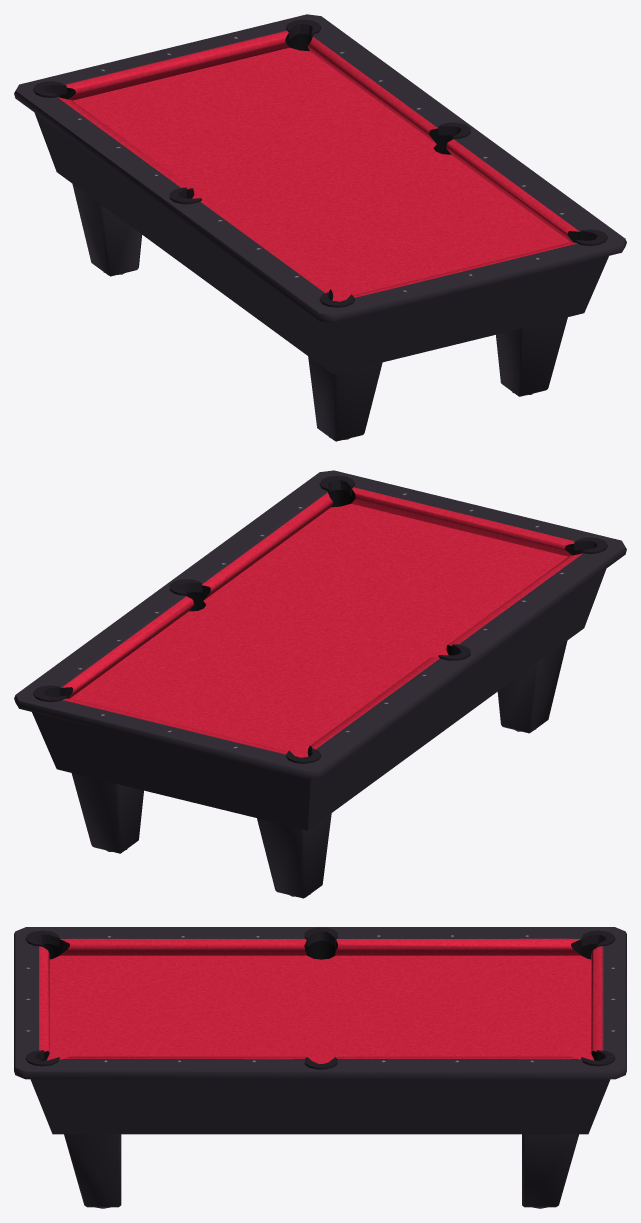
File: table02.dae
3 views of the same model, one above another, from view 1: azimuth 30°, elevation 25°; view 2: azimuth 150°, elevation 25°; view 3: azimuth 270°, elevation 25° (orthographic). The views are drawn at different scales.
Visible parts, largest first — view 1: table02; view 2: table02; view 3: table02.
Part boxes in pixels (x1,y1,x2,y2): table02: (14, 14, 626, 441); table02: (14, 470, 626, 898); table02: (14, 927, 626, 1208).
Size of the model in its own units: 152 by 79.45 by 272.
